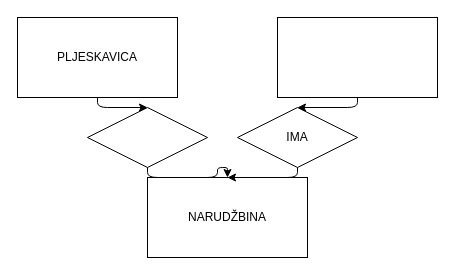
This 455x275 diagram has some shape labels left out. Here are the shapes that lost their labels. From the top down, the box of each, then its label:
(276, 16, 438, 98): DODATAK
(86, 106, 208, 168): SADRZI
